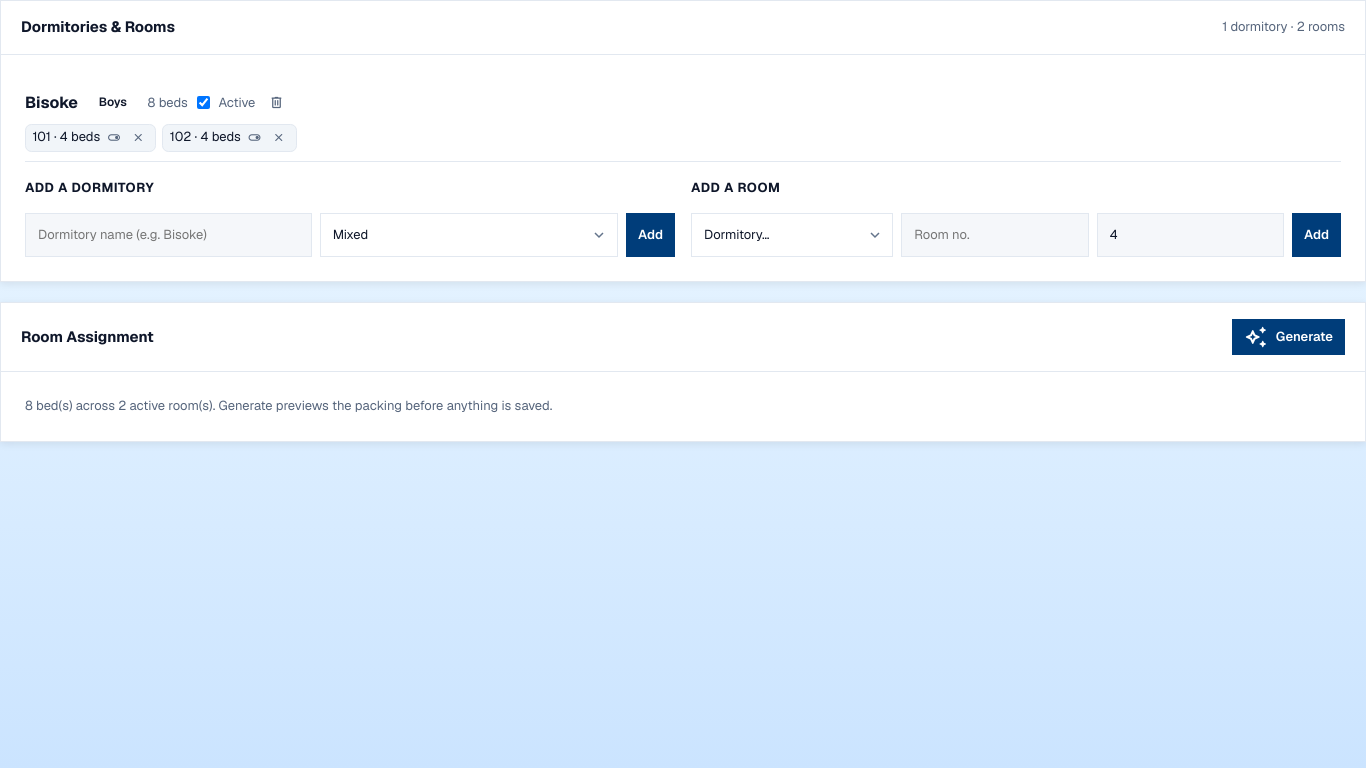
Test: DormPlannerTab › previews a plan with occupancy, unplaced students and a summary
Expected: the text "101 · 4 beds" is shown, x1=25 y1=124 x2=156 y2=152
Click the button "Generate". click: (1288, 337)
box: x1=1232 y1=319 x2=1345 y2=355
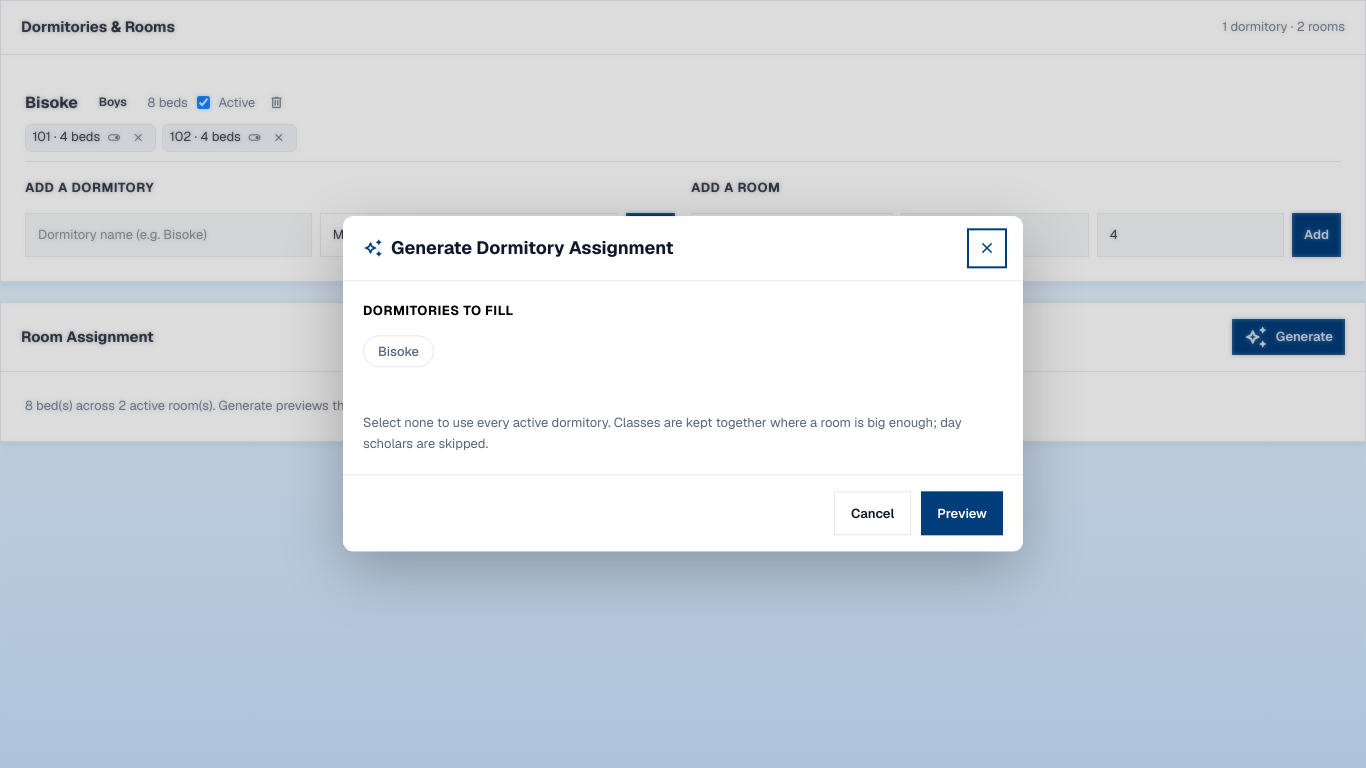
Click the button "Preview". click: (962, 514)
box: x1=921 y1=492 x2=1003 y2=536
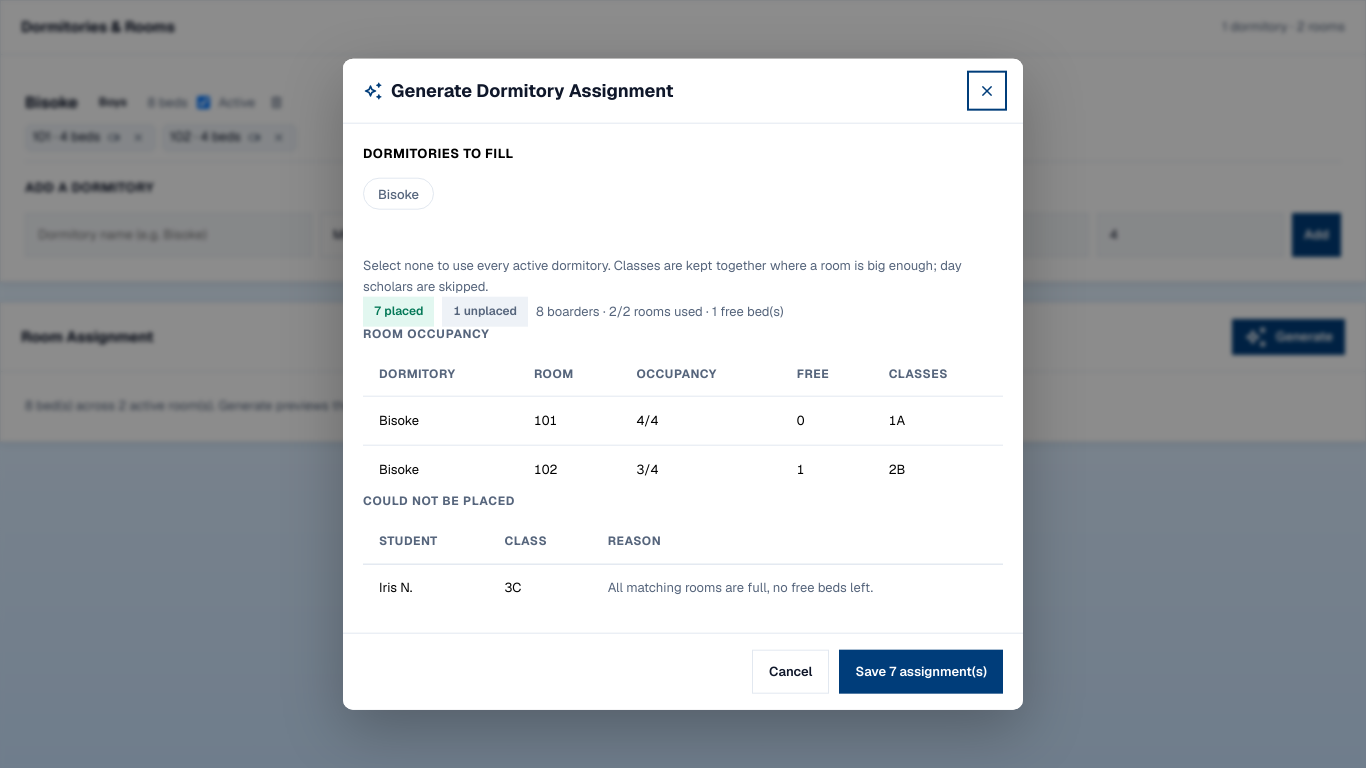
Expected: the text "7 placed" is shown, x1=363 y1=297 x2=434 y2=326
Expected: the text "1 unplaced" is shown, x1=442 y1=297 x2=528 y2=326
Expected: the text "4/4" is shown, x1=620 y1=396 x2=781 y2=445
